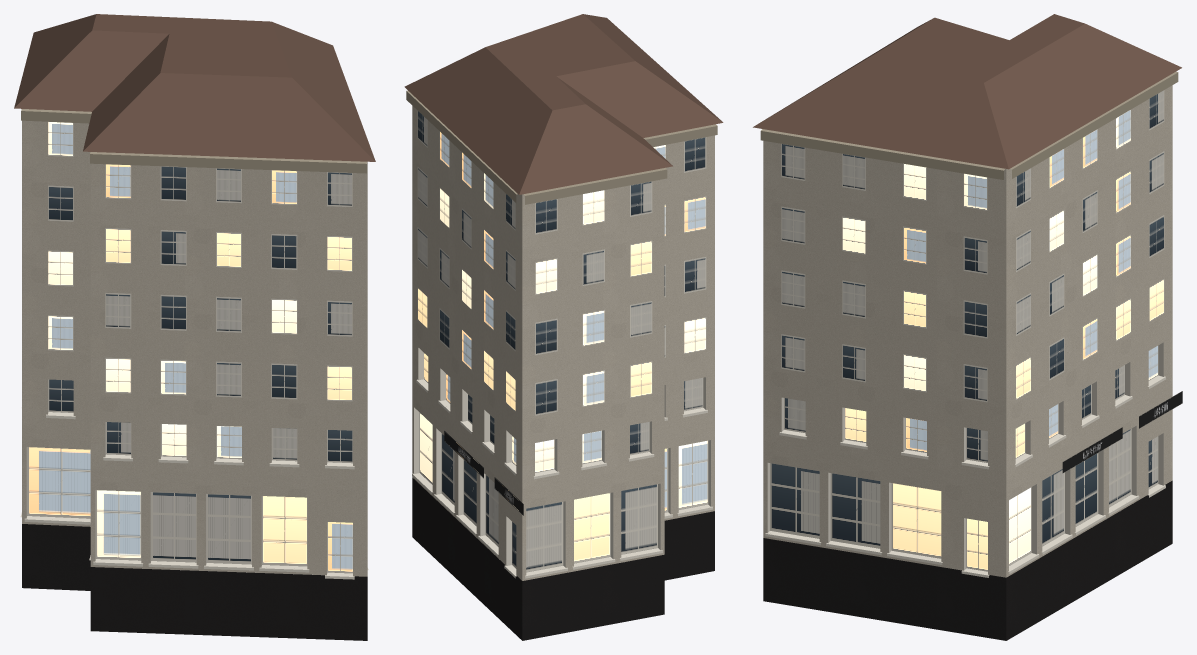
File: langC_allegrotto.glb
3 views of the same model, side by side, from view 1: azimuth 30°, elevation 25°; view 2: azimuth 150°, elevation 25°; view 3: azimuth 270°, elevation 25° (orthographic). The views are drawn at different scales.
Parts seen in each view (by area): view 1: langC_allegrotto; view 2: langC_allegrotto; view 3: langC_allegrotto.
Boxes of the visible parts, x1=… form: langC_allegrotto: x1=14, y1=14, x2=375, y2=640; langC_allegrotto: x1=404, y1=14, x2=723, y2=640; langC_allegrotto: x1=753, y1=14, x2=1182, y2=640.
Size of the model in its own units: 14.86 by 24.93 by 18.48.
3 materials, 3 textured.
